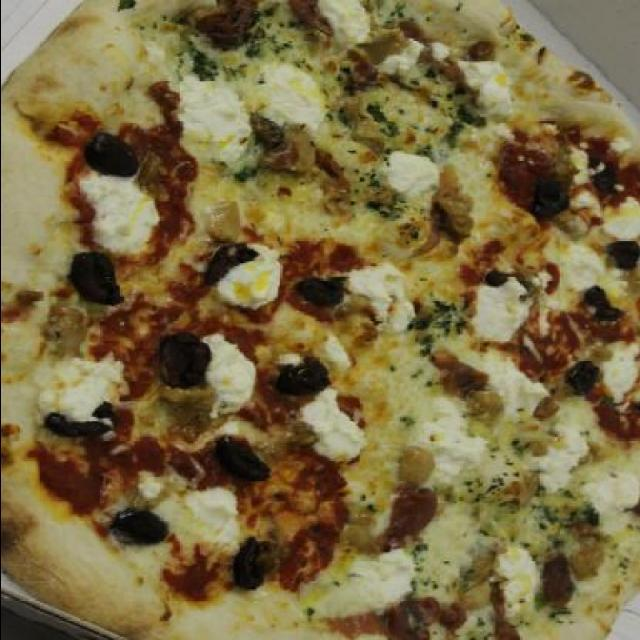Pizza: (1, 0, 636, 640)
